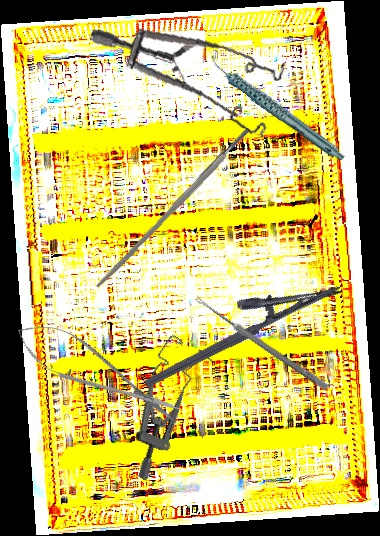Handpiece: (208, 31, 346, 185)
Micro Scissor: (7, 309, 188, 436)
Needle Holder: (129, 257, 344, 390)
Scalpel Handle: (94, 126, 253, 291)
Speculum: (87, 6, 296, 158), (95, 331, 225, 483)
Surgical Spoon: (193, 295, 330, 391)
